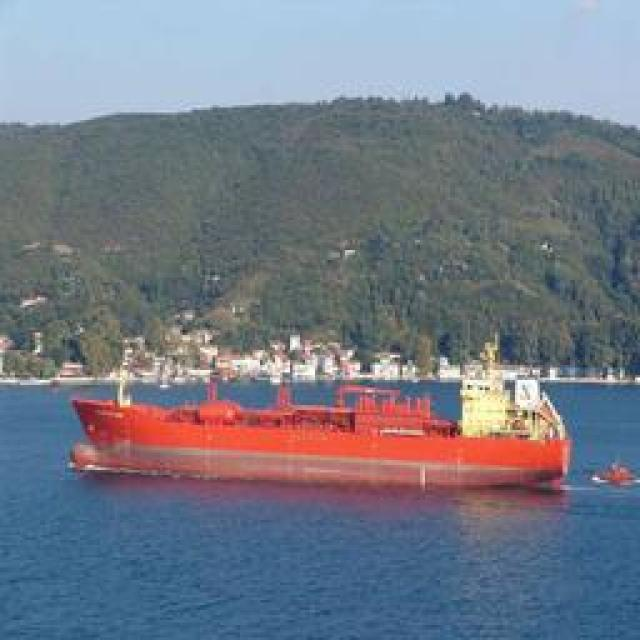CIV_Ship: (74, 381, 576, 489)
